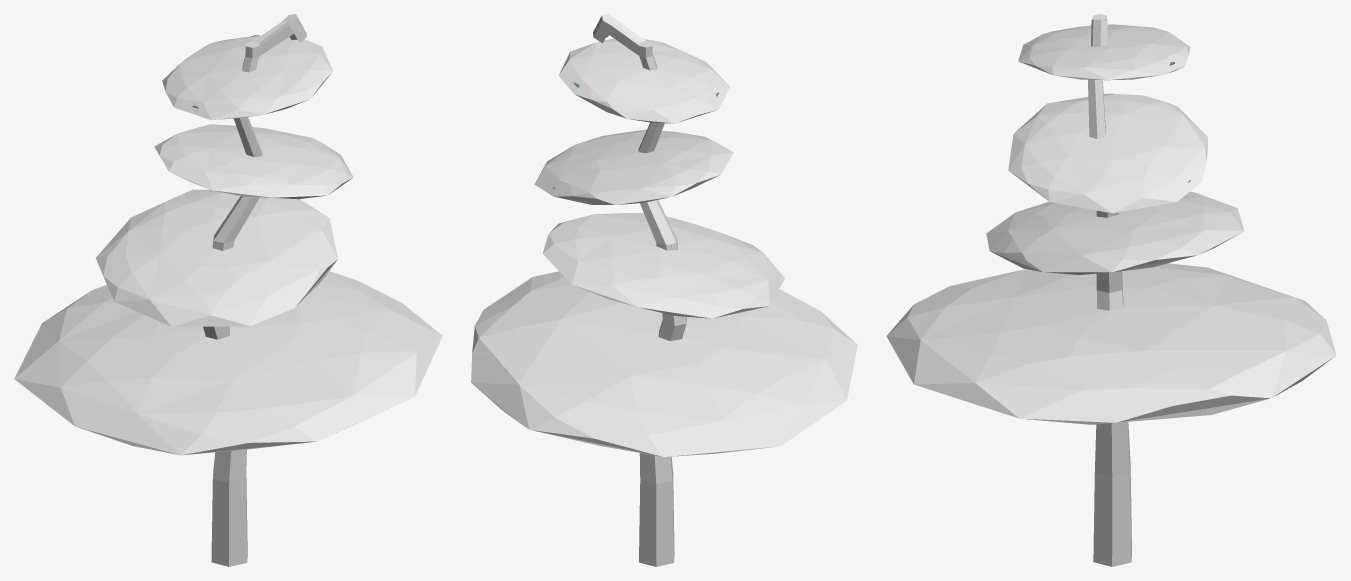
The model's file is resource__tree__mush-tree-2.fbx.
3 renders of one model, left to right at view 1: azimuth 30°, elevation 25°; view 2: azimuth 150°, elevation 25°; view 3: azimuth 270°, elevation 25°, orthographic. The views are drawn at different scales.
Parts seen in each view (by area): view 1: Mushtree_2; view 2: Mushtree_2; view 3: Mushtree_2.
Part boxes in pixels (x1,y1,x2,y2): Mushtree_2: (14, 14, 442, 566); Mushtree_2: (471, 14, 857, 566); Mushtree_2: (886, 14, 1336, 566).
Bounding box in the file's own units: 257 × 376 × 269.
